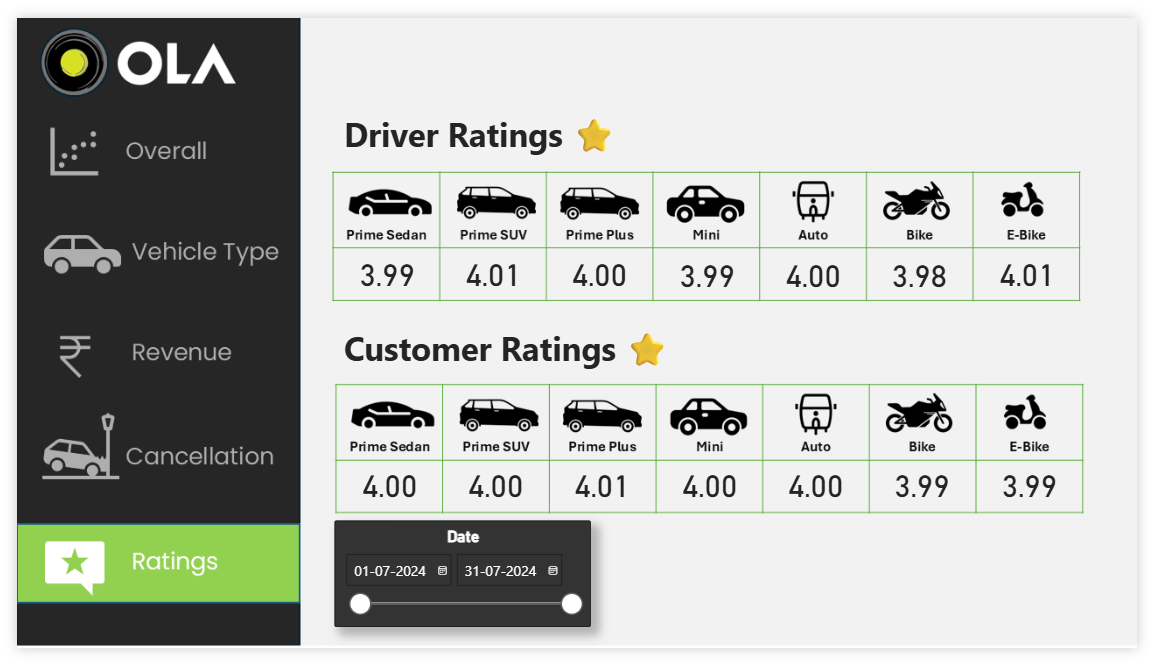

This screenshot's page, from the dashboard's own definition file:
{"tool":"powerbi","page":{"name":"Ratings","canvas":[1280,720],"ordinal":4},"visuals":[{"type":"actionButton","box":[0,222.1,322.7,95.7],"z":0},{"type":"actionButton","box":[0,338.7,322.7,90.8],"z":1000},{"type":"actionButton","box":[0,444.2,322.7,90.8],"z":2000},{"type":"actionButton","box":[0,579.1,322.7,90.8],"z":3000},{"type":"actionButton","box":[0,102.9,322.5,96.1],"z":4000},{"type":"card","fields":{"Values":["Avg(Bookings.Driver_Ratings)"]},"box":[368.2,270,109.1,47.3],"z":5000},{"type":"card","fields":{"Values":["Avg(Bookings.Driver_Ratings)"]},"box":[490,270,108.6,47.1],"z":6000},{"type":"card","fields":{"Values":["Avg(Bookings.Driver_Ratings)"]},"box":[611.4,270,108.6,47.1],"z":7000},{"type":"card","fields":{"Values":["Avg(Bookings.Driver_Ratings)"]},"box":[733.6,270.9,109.1,47.3],"z":8000},{"type":"card","fields":{"Values":["Avg(Bookings.Driver_Ratings)"]},"box":[855.4,270.9,108.6,47.1],"z":9000},{"type":"card","fields":{"Values":["Avg(Bookings.Driver_Ratings)"]},"box":[976.9,270.9,108.6,47.1],"z":10000},{"type":"card","fields":{"Values":["Avg(Bookings.Driver_Ratings)"]},"box":[1100,270,108.6,47.1],"z":11000},{"type":"textbox","box":[368.6,102.9,840,61.4],"z":11001},{"type":"textbox","box":[368.6,347.1,840,61.4],"z":11002},{"type":"card","fields":{"Values":["Avg(Bookings.Customer_Rating)"]},"box":[371.3,510.9,109.1,47.3],"z":11003},{"type":"card","fields":{"Values":["Avg(Bookings.Customer_Rating)"]},"box":[493.1,510.9,108.6,47.1],"z":11004},{"type":"card","fields":{"Values":["Avg(Bookings.Customer_Rating)"]},"box":[614.6,510.9,108.6,47.1],"z":11005},{"type":"card","fields":{"Values":["Avg(Bookings.Customer_Rating)"]},"box":[736.8,511.7,109.1,47.3],"z":11006},{"type":"card","fields":{"Values":["Avg(Bookings.Customer_Rating)"]},"box":[858.6,511.7,108.6,47.1],"z":11007},{"type":"card","fields":{"Values":["Avg(Bookings.Customer_Rating)"]},"box":[980,511.7,108.6,47.1],"z":11008},{"type":"card","fields":{"Values":["Avg(Bookings.Customer_Rating)"]},"box":[1103.1,510.9,108.6,47.1],"z":11009},{"type":"slicer","title":"Date","fields":{"Values":["Bookings.Date"]},"box":[362.9,574.3,292.9,121.4],"z":11010}]}

Visuals, with their boxes on the page's 1280x720 design canvas (x1, y1, x2, y2). These are canvas units, not pixel positions in the 1167x671 screenshot, which may show the page scaled, cropped or inside an application window:
actionButton: (x1=0, y1=222, x2=323, y2=318)
actionButton: (x1=0, y1=339, x2=323, y2=430)
actionButton: (x1=0, y1=444, x2=323, y2=535)
actionButton: (x1=0, y1=579, x2=323, y2=670)
actionButton: (x1=0, y1=103, x2=322, y2=199)
card - Avg(Bookings.Driver_Ratings): (x1=368, y1=270, x2=477, y2=317)
card - Avg(Bookings.Driver_Ratings): (x1=490, y1=270, x2=599, y2=317)
card - Avg(Bookings.Driver_Ratings): (x1=611, y1=270, x2=720, y2=317)
card - Avg(Bookings.Driver_Ratings): (x1=734, y1=271, x2=843, y2=318)
card - Avg(Bookings.Driver_Ratings): (x1=855, y1=271, x2=964, y2=318)
card - Avg(Bookings.Driver_Ratings): (x1=977, y1=271, x2=1086, y2=318)
card - Avg(Bookings.Driver_Ratings): (x1=1100, y1=270, x2=1209, y2=317)
textbox: (x1=369, y1=103, x2=1209, y2=164)
textbox: (x1=369, y1=347, x2=1209, y2=408)
card - Avg(Bookings.Customer_Rating): (x1=371, y1=511, x2=480, y2=558)
card - Avg(Bookings.Customer_Rating): (x1=493, y1=511, x2=602, y2=558)
card - Avg(Bookings.Customer_Rating): (x1=615, y1=511, x2=723, y2=558)
card - Avg(Bookings.Customer_Rating): (x1=737, y1=512, x2=846, y2=559)
card - Avg(Bookings.Customer_Rating): (x1=859, y1=512, x2=967, y2=559)
card - Avg(Bookings.Customer_Rating): (x1=980, y1=512, x2=1089, y2=559)
card - Avg(Bookings.Customer_Rating): (x1=1103, y1=511, x2=1212, y2=558)
"Date" slicer: (x1=363, y1=574, x2=656, y2=696)
